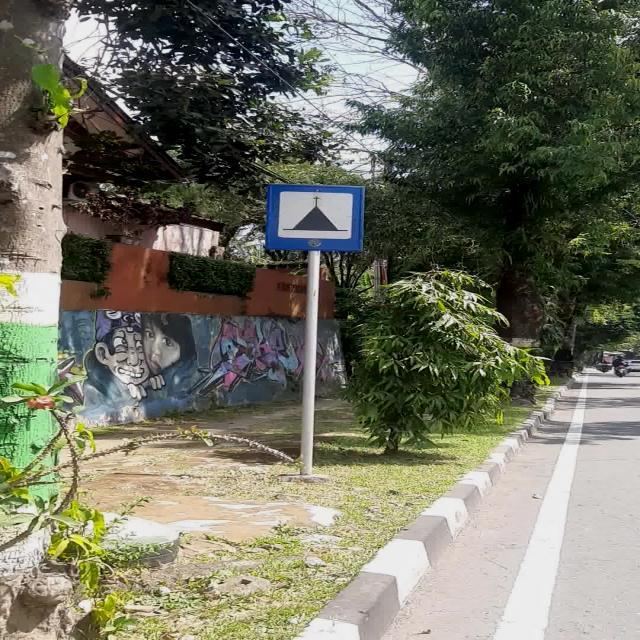Gereja: (264, 184, 366, 252)
